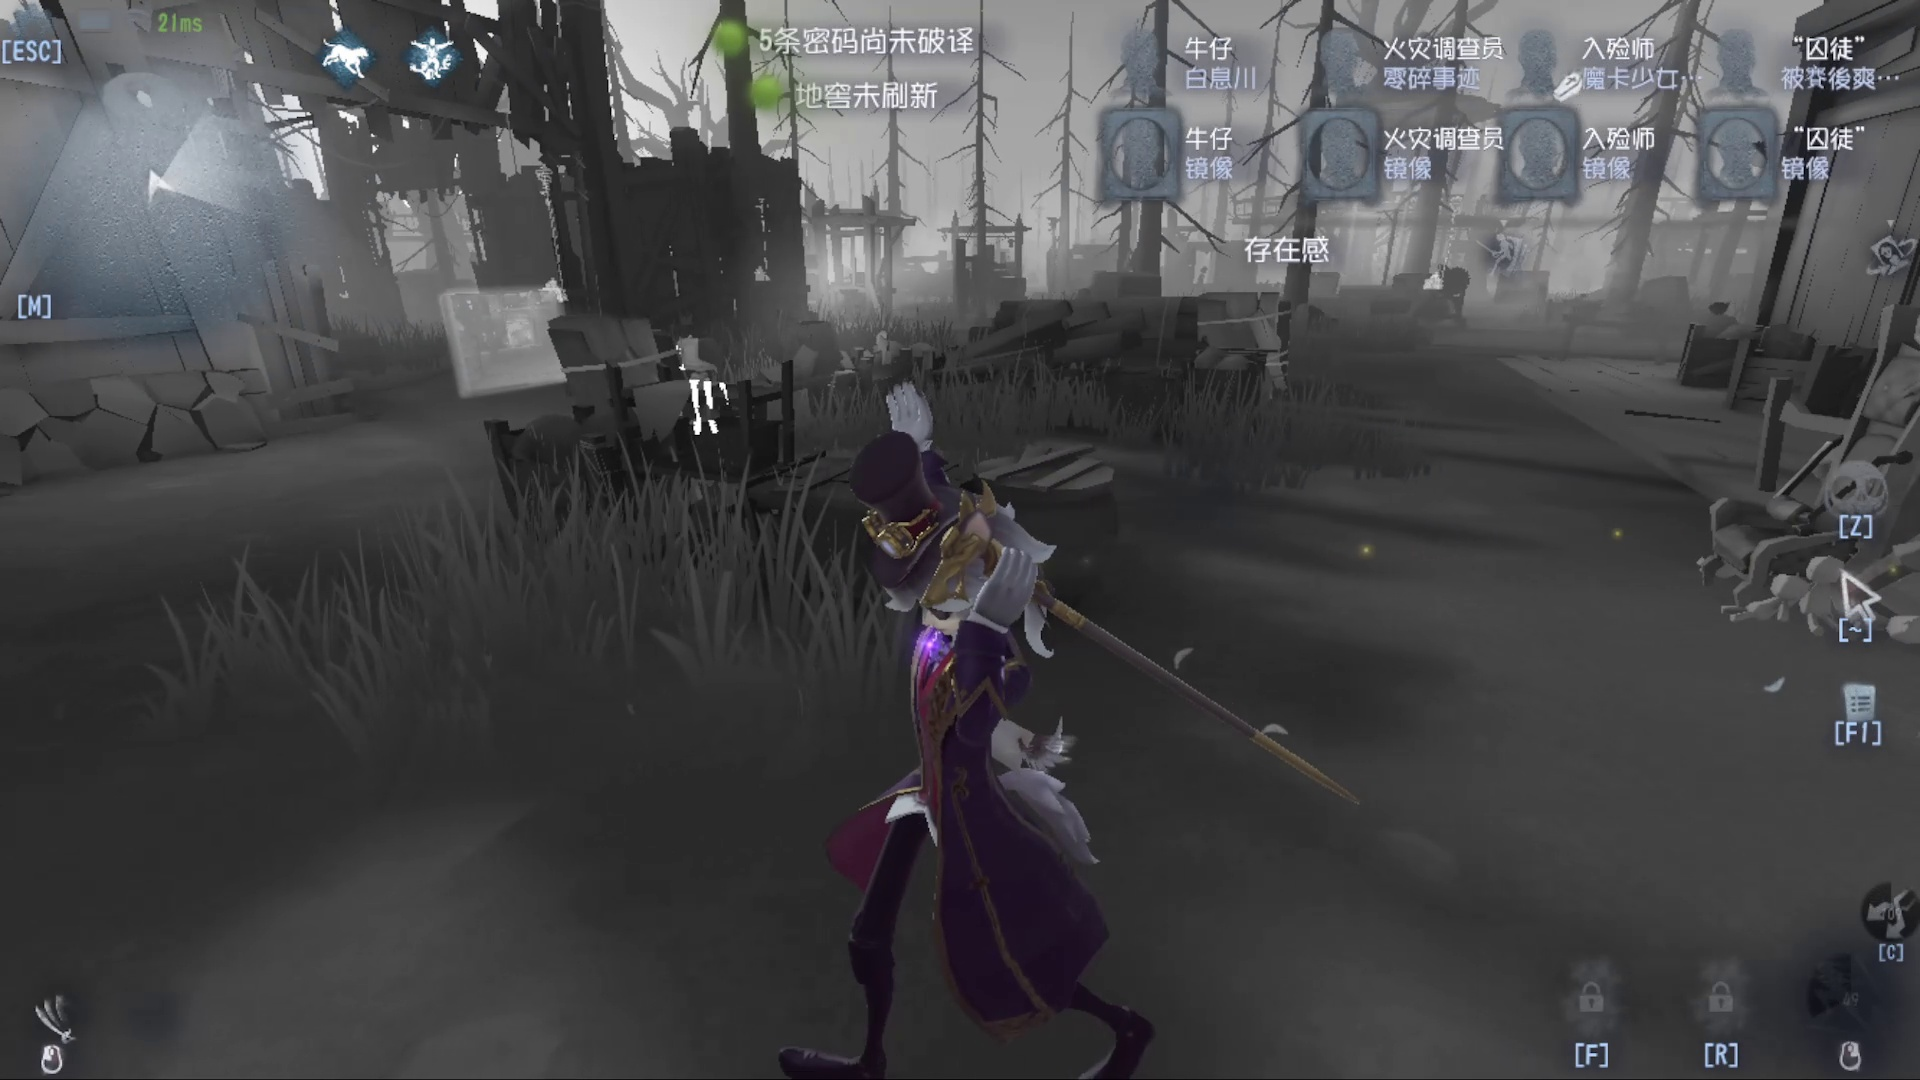狂欢之椅: (1613, 324, 1907, 640)
